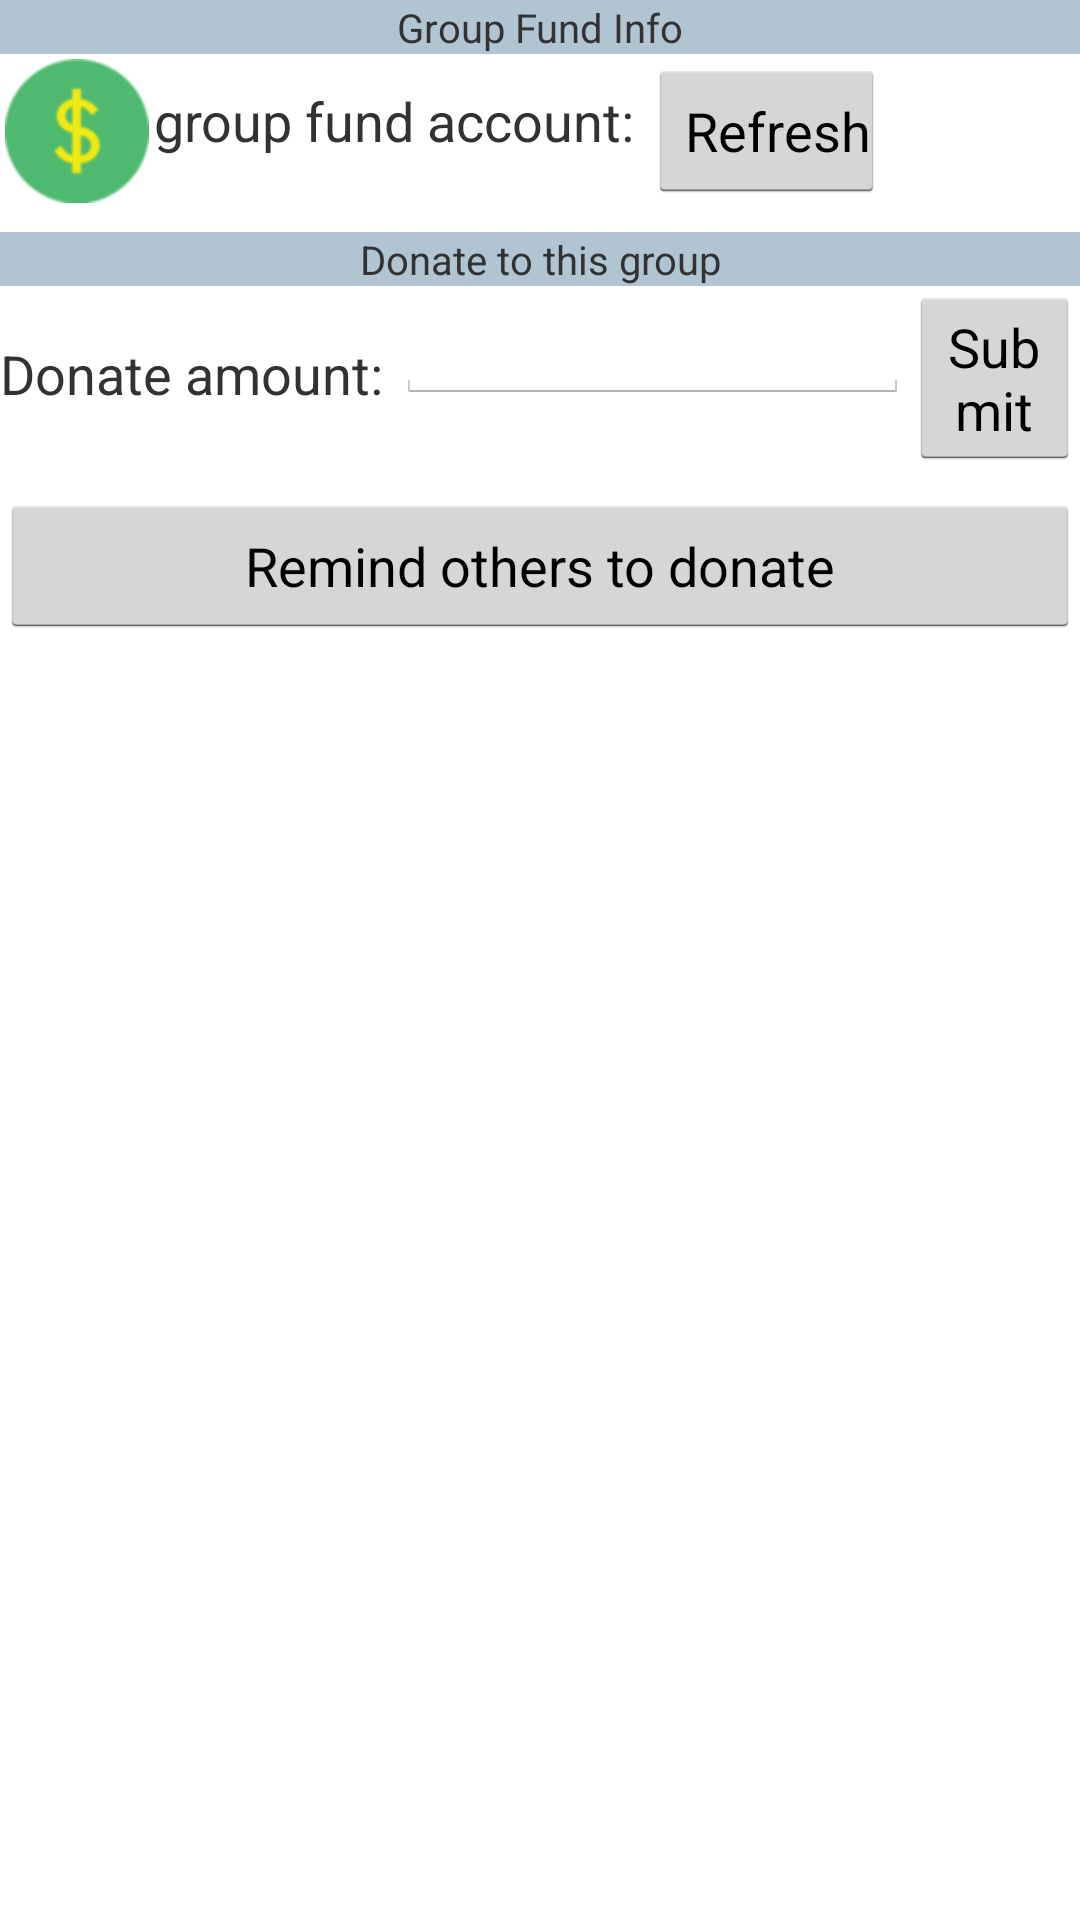

Named icons in this screenshot (1080 × 1920) and their centers, point (x, y):
money: point (77, 131)
